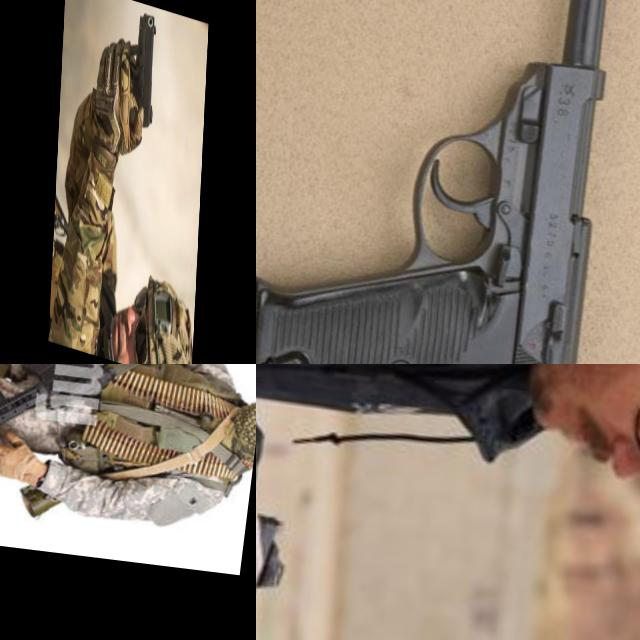handgun: (256, 0, 640, 364), (256, 494, 329, 640), (120, 4, 158, 135), (99, 364, 171, 410)
